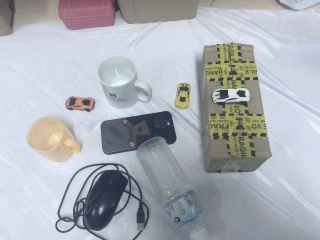bottle: (131, 135, 219, 239)
box: (193, 41, 270, 175), (113, 1, 201, 26), (1, 1, 15, 39)
cup: (96, 55, 153, 111), (25, 115, 84, 165)
mouse: (81, 169, 128, 233)
phone: (100, 111, 177, 154)
toy_car: (211, 86, 251, 105), (65, 96, 96, 112), (174, 82, 191, 109)
